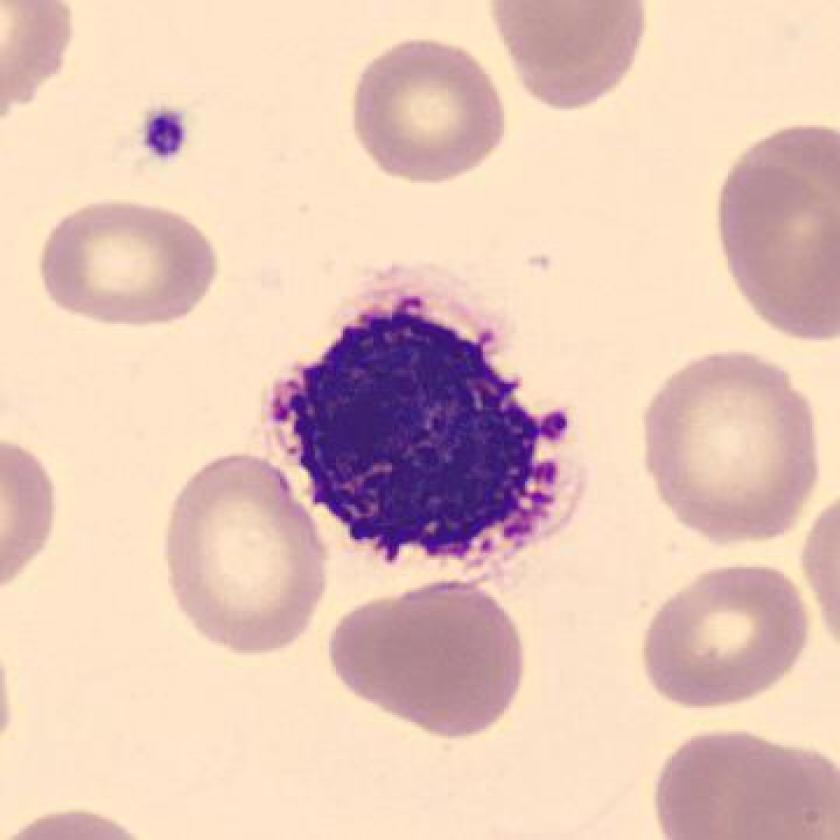basophil: (267, 288, 577, 577)
